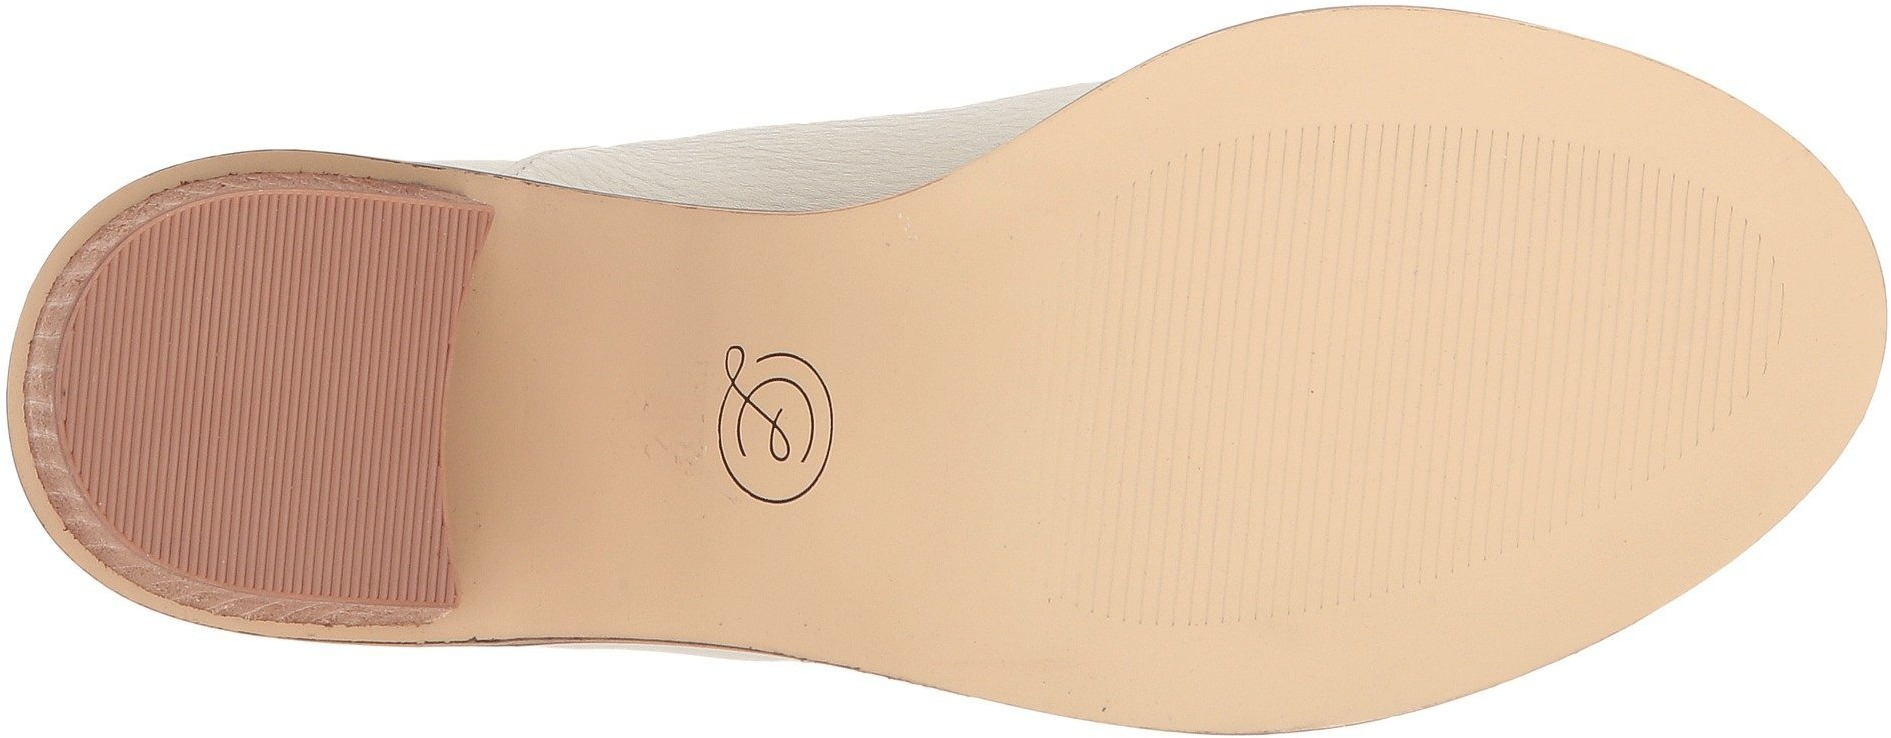other: (1058, 228, 1343, 499), (99, 268, 344, 527), (1348, 156, 1586, 375), (1591, 201, 1788, 402), (1347, 382, 1545, 575), (1164, 506, 1289, 623), (1315, 8, 1444, 121), (942, 572, 1052, 693), (344, 211, 450, 324), (349, 514, 438, 603)
